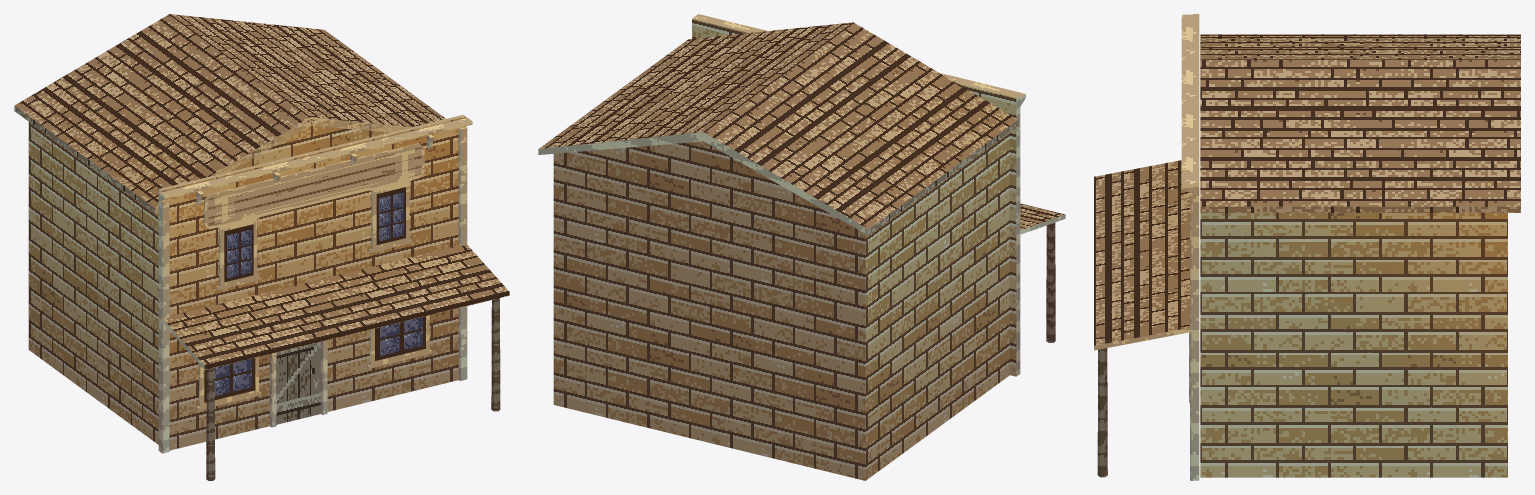
File: wtown.facade__g_brick.glb
The picture shows the model from 3 angles, left to right: view 1: azimuth 30°, elevation 25°; view 2: azimuth 150°, elevation 25°; view 3: azimuth 270°, elevation 25°; orthographic projection. The views are drawn at different scales.
Parts seen in each view (by area): view 1: kit_roof, kit_front, kit_body, kit_porch, kit_card_panes, kit_trim, kit_windows; view 2: kit_body, kit_roof, kit_front, kit_porch, kit_trim; view 3: kit_body, kit_roof, kit_porch, kit_trim, kit_front.
Part boxes in pixels (x1,y1,x2,y2): kit_roof: (14,14,445,214); kit_front: (158,115,465,451); kit_body: (28,119,407,444); kit_porch: (162,245,509,480); kit_card_panes: (204,147,425,424); kit_trim: (159,117,472,453); kit_windows: (196,176,431,410); kit_body: (553,132,1009,480); kit_roof: (538,22,1018,235); kit_front: (692,17,1019,376); kit_porch: (1020,203,1065,342); kit_trim: (693,14,1025,374); kit_body: (1200,213,1507,477); kit_roof: (1200,34,1520,212); kit_porch: (1094,160,1190,477); kit_trim: (1181,14,1193,480); kit_front: (1193,14,1199,480).
Size of the model in its own units: 7.94 by 7.24 by 8.32.
7 materials, 7 textured.
